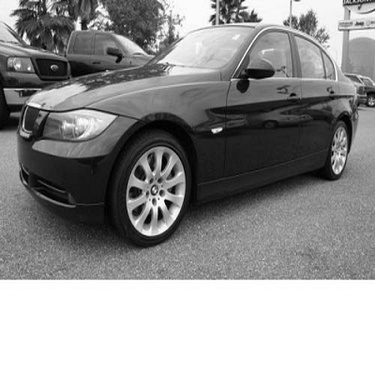car: (8, 27, 362, 249), (4, 19, 71, 134), (55, 27, 161, 86), (330, 69, 366, 108), (352, 67, 372, 115)
